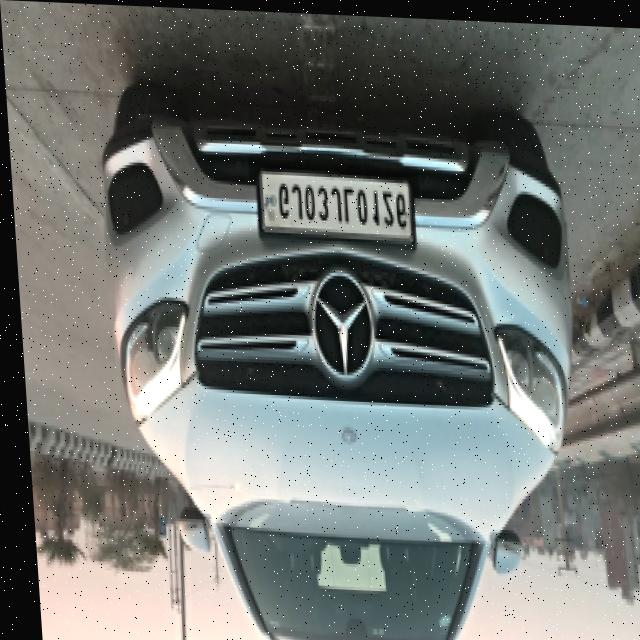plate: (251, 169, 414, 247)
